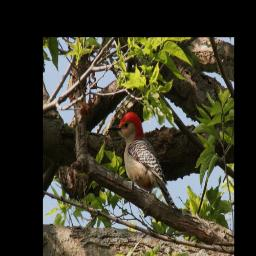Woodpecker: (107, 109, 181, 213)
